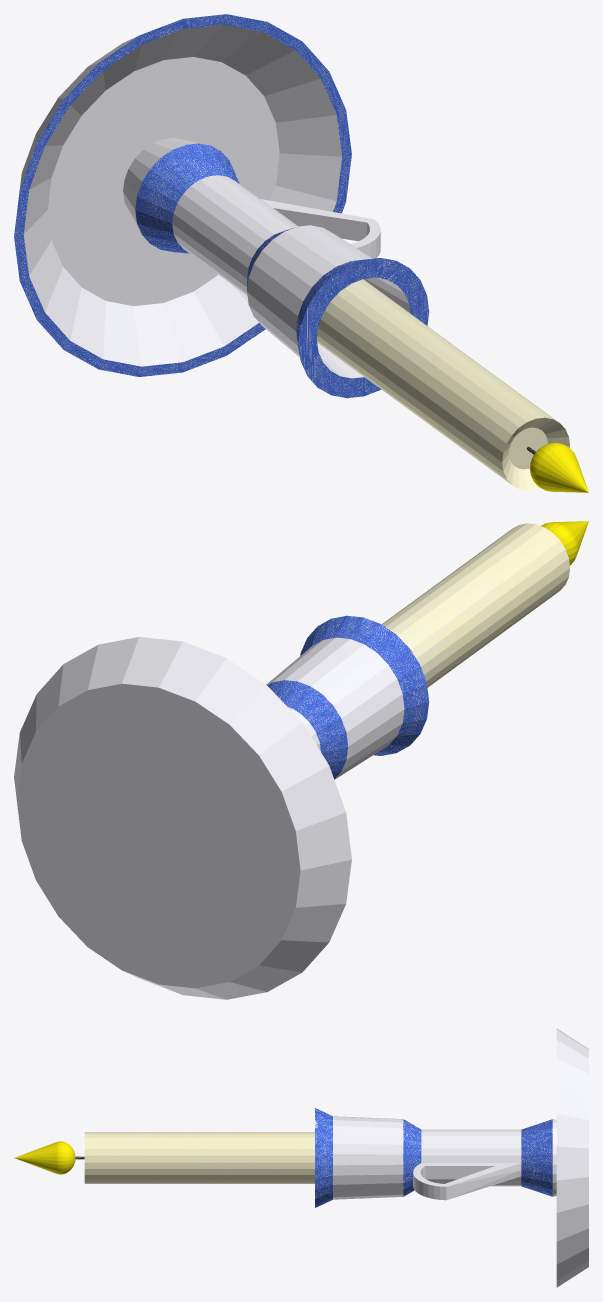
3 renders of one model, top to bottom at view 1: azimuth 30°, elevation 25°; view 2: azimuth 150°, elevation 25°; view 3: azimuth 270°, elevation 25°, orthographic. The views are drawn at different scales.
Visible parts, largest first — view 1: candle; view 2: candle; view 3: candle.
Boxes of the visible parts, x1,y1,x2,y2 form: candle: [14, 14, 588, 492]; candle: [14, 521, 588, 999]; candle: [14, 1028, 588, 1287].
Size of the model in its own units: 108 by 108 by 238.
